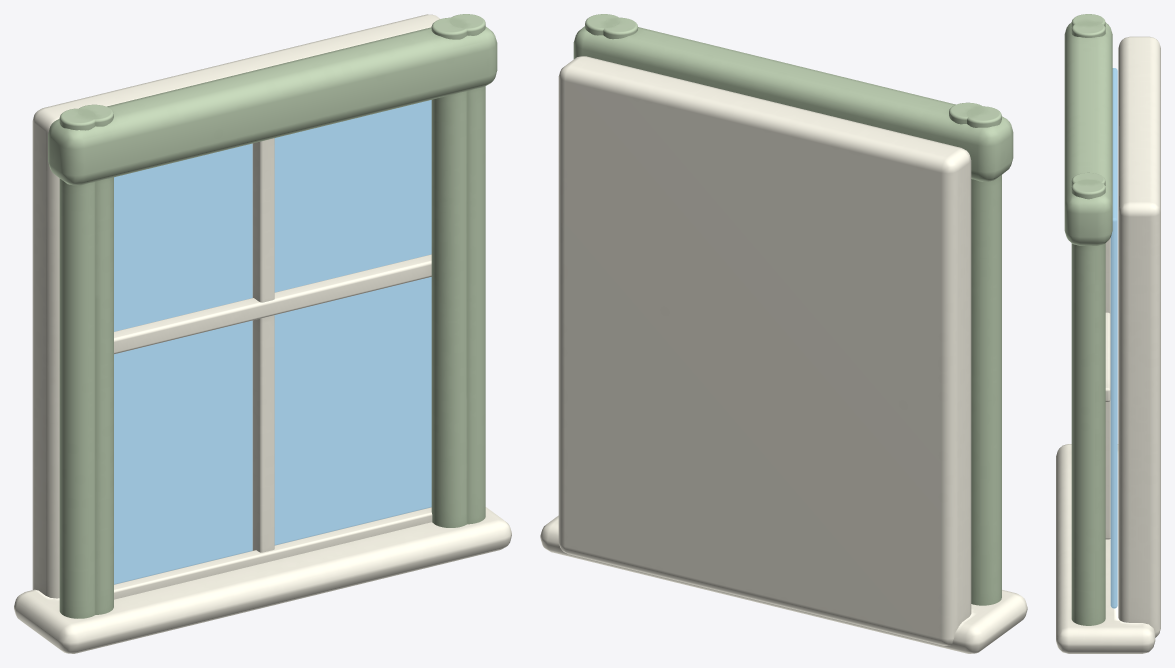
File: window8A.glb
3 renders of one model, left to right at view 1: azimuth 30°, elevation 25°; view 2: azimuth 150°, elevation 25°; view 3: azimuth 270°, elevation 25°, orthographic. The views are drawn at different scales.
Visible parts, largest first — view 1: Window glass, Curtain pelmet, Sill, Window frame, Curtain fold, Curtain fold.003, Window muntin, Curtain fold.002, Curtain fold.001, Window crossbar, Opening sash rail; view 2: Window frame, Curtain pelmet, Curtain fold, Sill; view 3: Window frame, Curtain fold.002, Curtain pelmet, Sill, Window glass, Window muntin, Window crossbar, Curtain fold.001, Curtain fold, Curtain fold.003.
Part boxes in pixels (x1=…): Window glass: x1=114, y1=100, x2=431, y2=584; Curtain pelmet: x1=48, y1=26, x2=497, y2=185; Sill: x1=14, y1=507, x2=511, y2=653; Window frame: x1=32, y1=14, x2=440, y2=598; Curtain fold: x1=59, y1=108, x2=95, y2=618; Curtain fold.003: x1=431, y1=17, x2=467, y2=527; Window muntin: x1=252, y1=138, x2=274, y2=552; Curtain fold.002: x1=449, y1=14, x2=485, y2=524; Curtain fold.001: x1=78, y1=104, x2=113, y2=614; Window crossbar: x1=114, y1=254, x2=431, y2=354; Opening sash rail: x1=114, y1=507, x2=432, y2=599; Window frame: x1=558, y1=56, x2=971, y2=645; Curtain pelmet: x1=573, y1=26, x2=1013, y2=181; Curtain fold: x1=966, y1=106, x2=1001, y2=605; Sill: x1=540, y1=515, x2=1027, y2=653; Window frame: x1=1118, y1=36, x2=1160, y2=637; Curtain fold.002: x1=1071, y1=179, x2=1105, y2=625; Curtain pelmet: x1=1064, y1=22, x2=1112, y2=245; Sill: x1=1056, y1=444, x2=1155, y2=653; Window glass: x1=1110, y1=68, x2=1117, y2=608; Window muntin: x1=1105, y1=238, x2=1110, y2=539; Window crossbar: x1=1105, y1=312, x2=1110, y2=402; Curtain fold.001: x1=1071, y1=20, x2=1105, y2=37; Curtain fold: x1=1071, y1=14, x2=1105, y2=27; Curtain fold.003: x1=1071, y1=172, x2=1105, y2=185.
Size of the model in its own units: 1.61 by 1.78 by 0.37.
